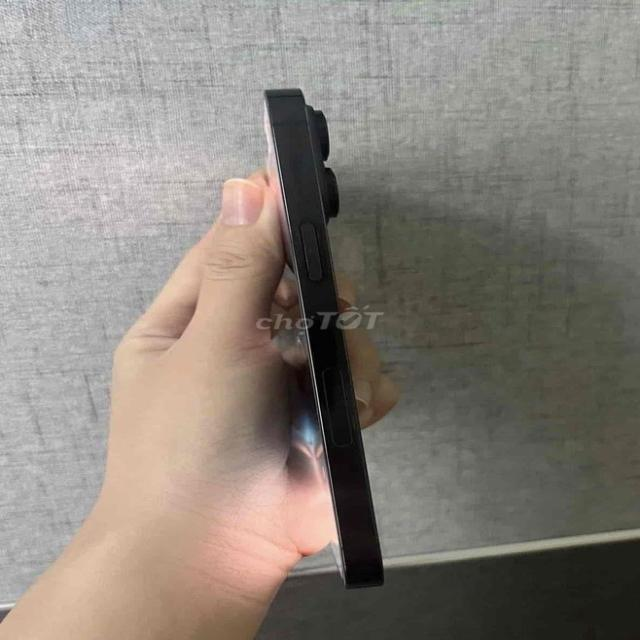gen_14: (241, 66, 409, 602)
